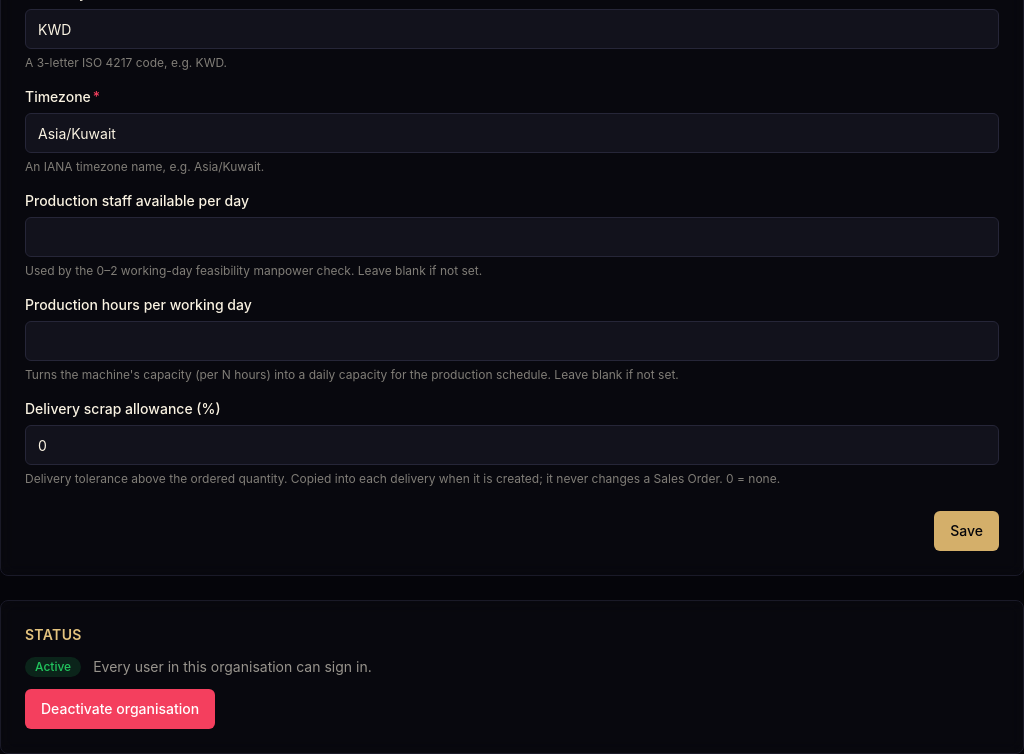
OrganisationSettingsPage › shows an error message when changing status fails
(page scrolled)
Click the button "Deactivate organisation" at (120, 709), box [25,689,215,729]
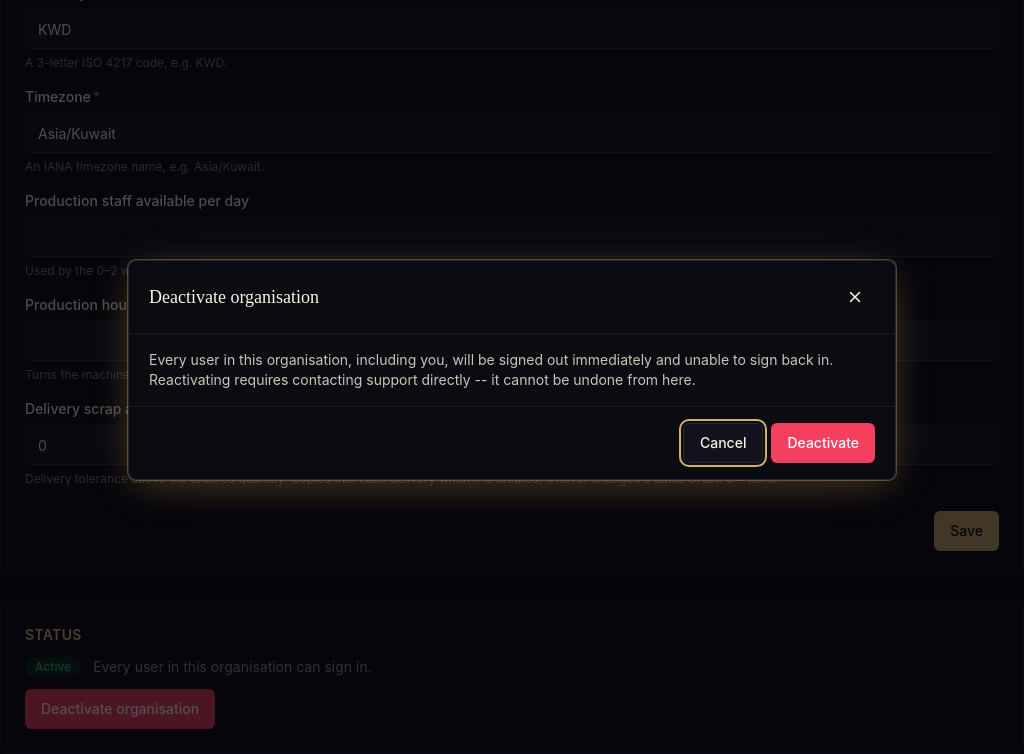
Click the button "Deactivate" at (823, 443), box [772,423,875,463]
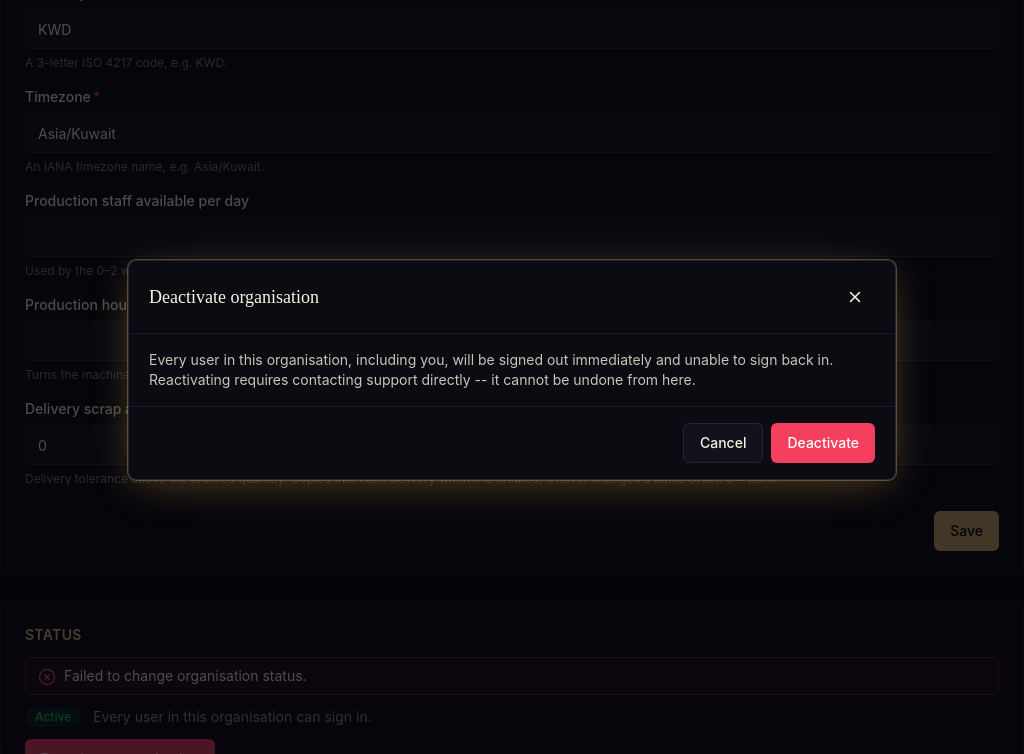
Check: the text "Failed to change organisation status." is shown, box [64,666,307,686]
